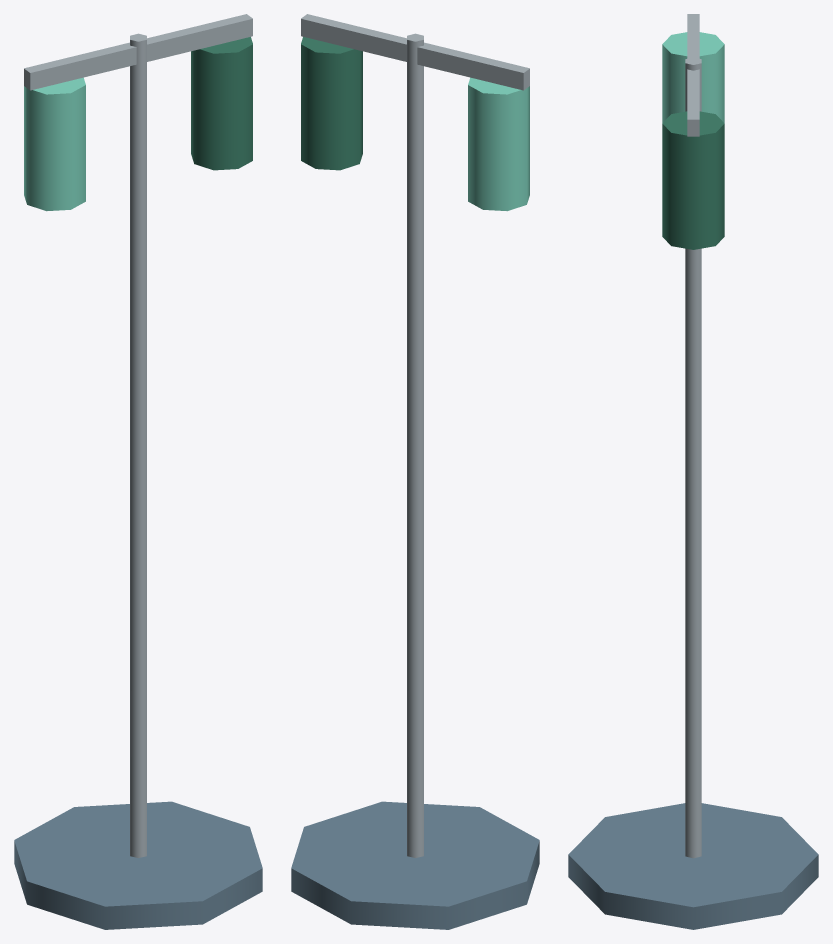
Rendered from med_iv_stand.glb.
3 views of the same model, side by side, from view 1: azimuth 30°, elevation 25°; view 2: azimuth 150°, elevation 25°; view 3: azimuth 270°, elevation 25° (orthographic). The views are drawn at different scales.
Parts seen in each view (by area): view 1: sw5e_int_med_iv_stand; view 2: sw5e_int_med_iv_stand; view 3: sw5e_int_med_iv_stand.
Part boxes in pixels (bbox=[...]): sw5e_int_med_iv_stand: bbox=[14, 14, 262, 929]; sw5e_int_med_iv_stand: bbox=[291, 14, 539, 929]; sw5e_int_med_iv_stand: bbox=[568, 14, 818, 929].
Size of the model in its own units: 0.4 by 1.44 by 0.4.
